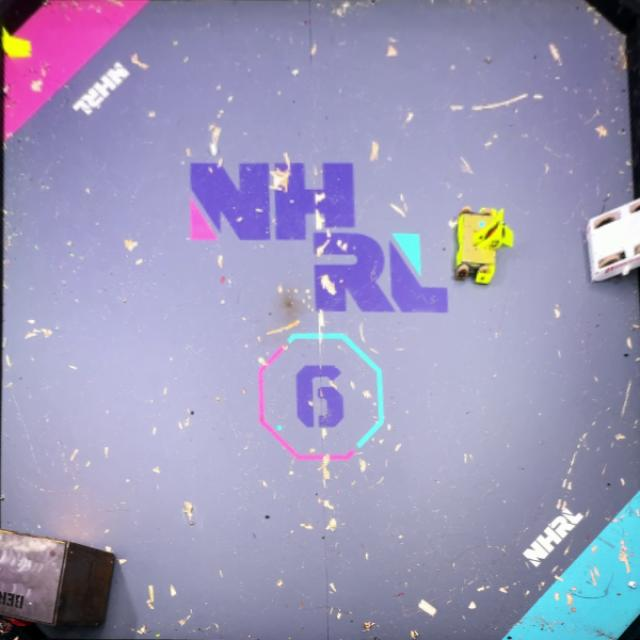housebot: (0, 528, 117, 633)
robot: (455, 205, 515, 286), (586, 198, 640, 284)
